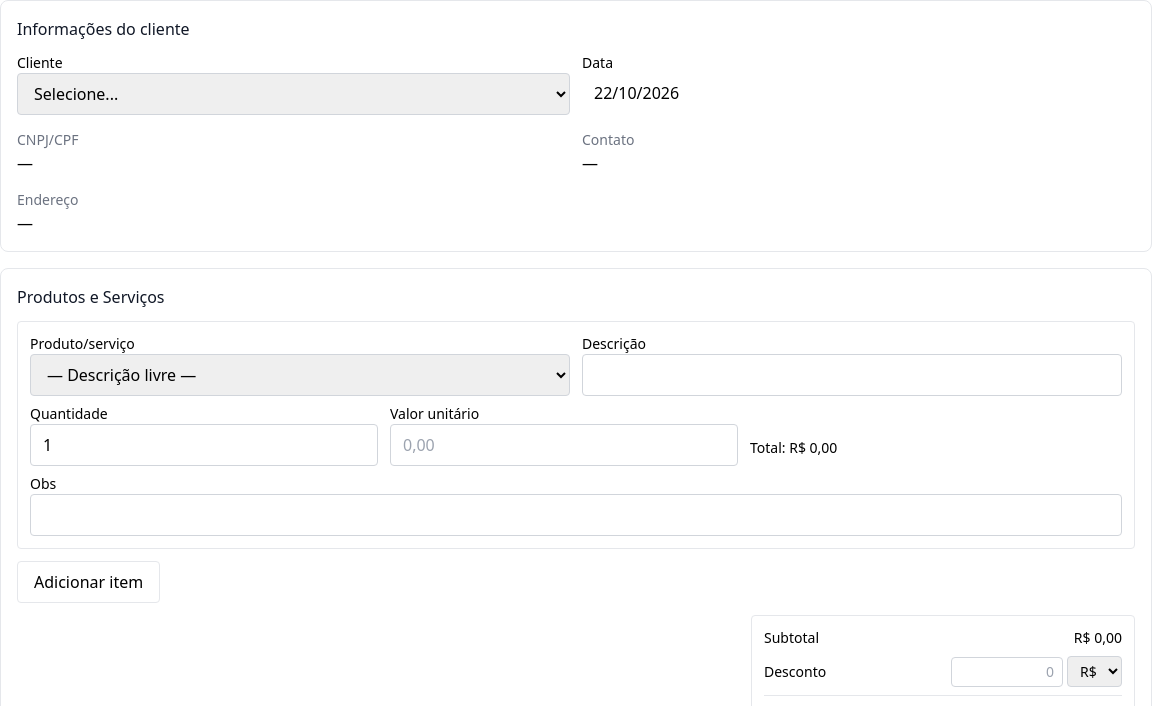
Test case: PedidoForm — item de produto › produto m² mostra a área calculada antes do valor
Select "Lona 440" in the dropdown labelled "Produto/serviço" at [300, 375], box [30,354,570,396]
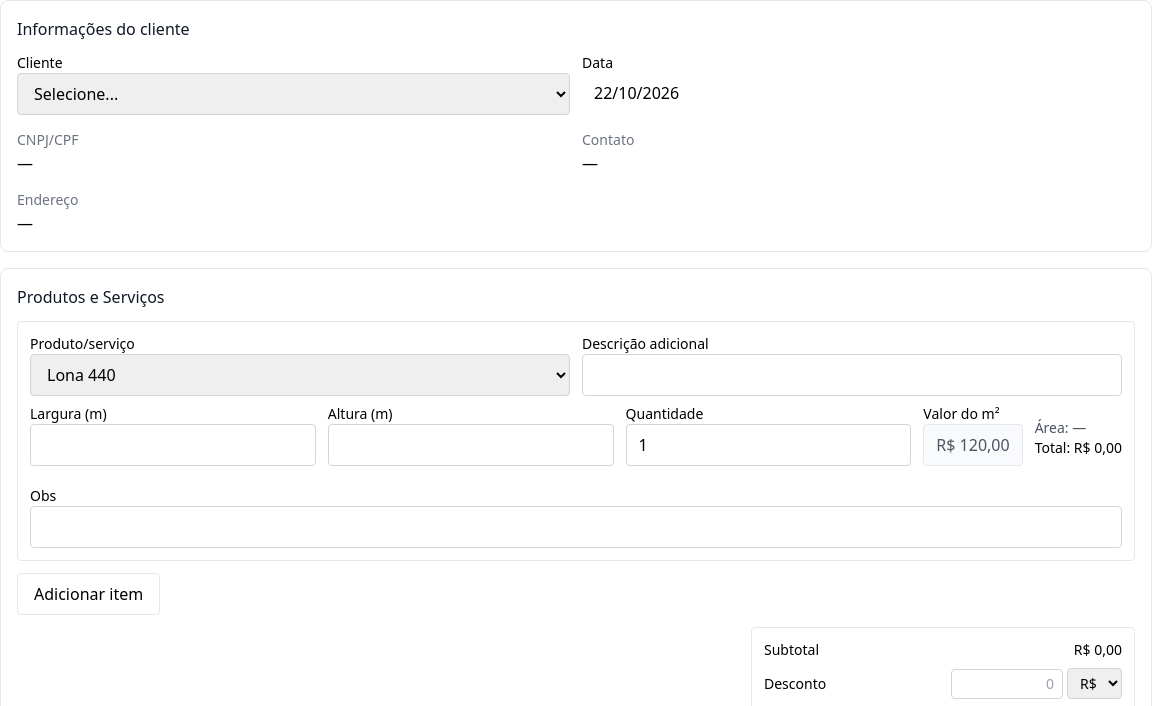
Type "1,5" into the field labelled "Largura (m)".
click(173, 445); type("1,5")  # box [30,424,316,466]
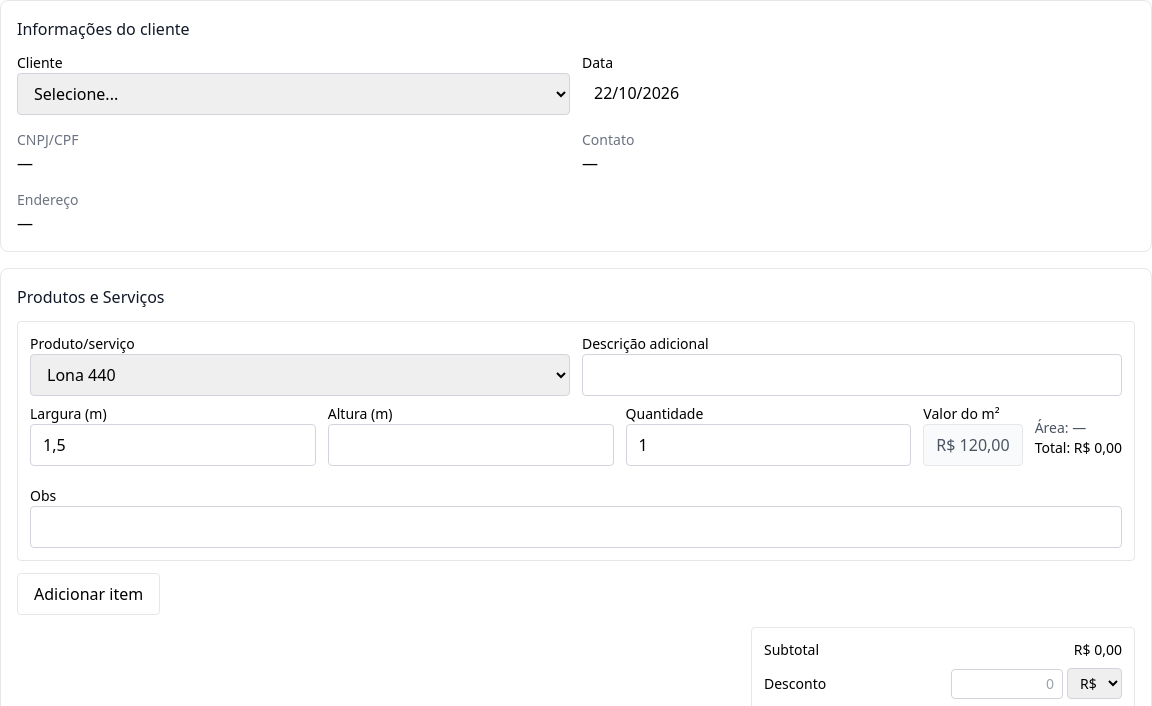
Type "2" into the field labelled "Altura (m)".
click(471, 445); type("2")  # box [328,424,614,466]
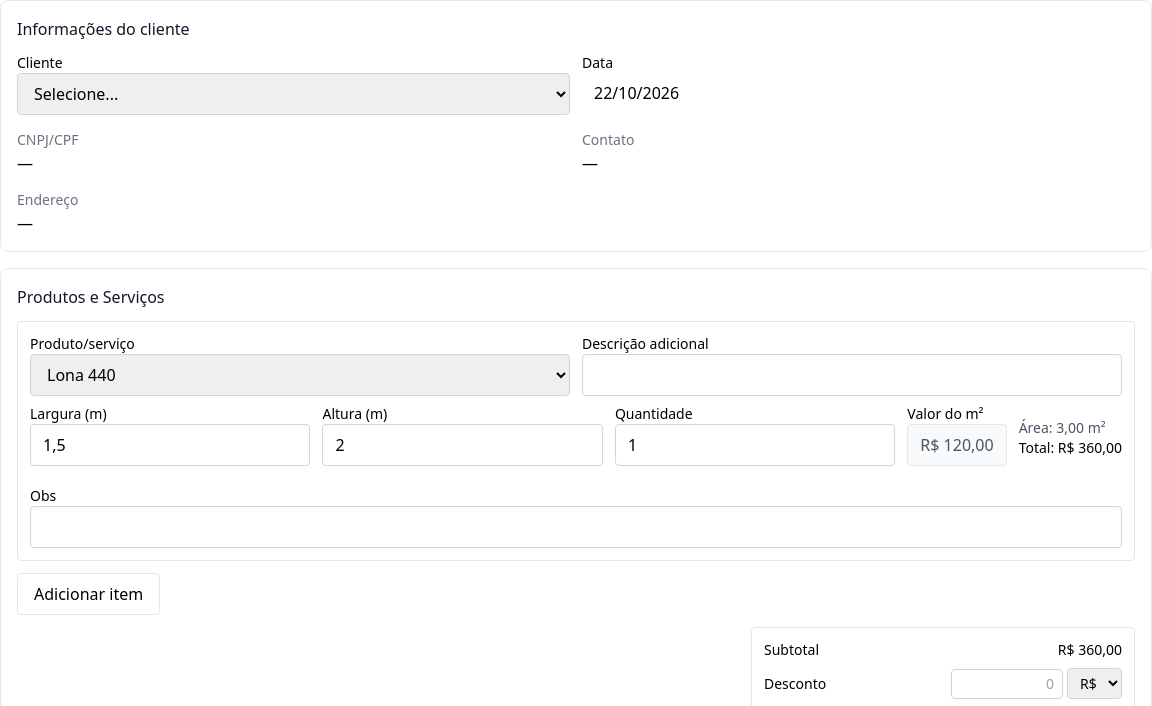
Now the text with test id "area-item-0" reads "3,00 m²", box [1056,418,1106,437]
Replace the text in the field labelled "Quantidade" with "2" at [755, 445], box [615,424,895,466]
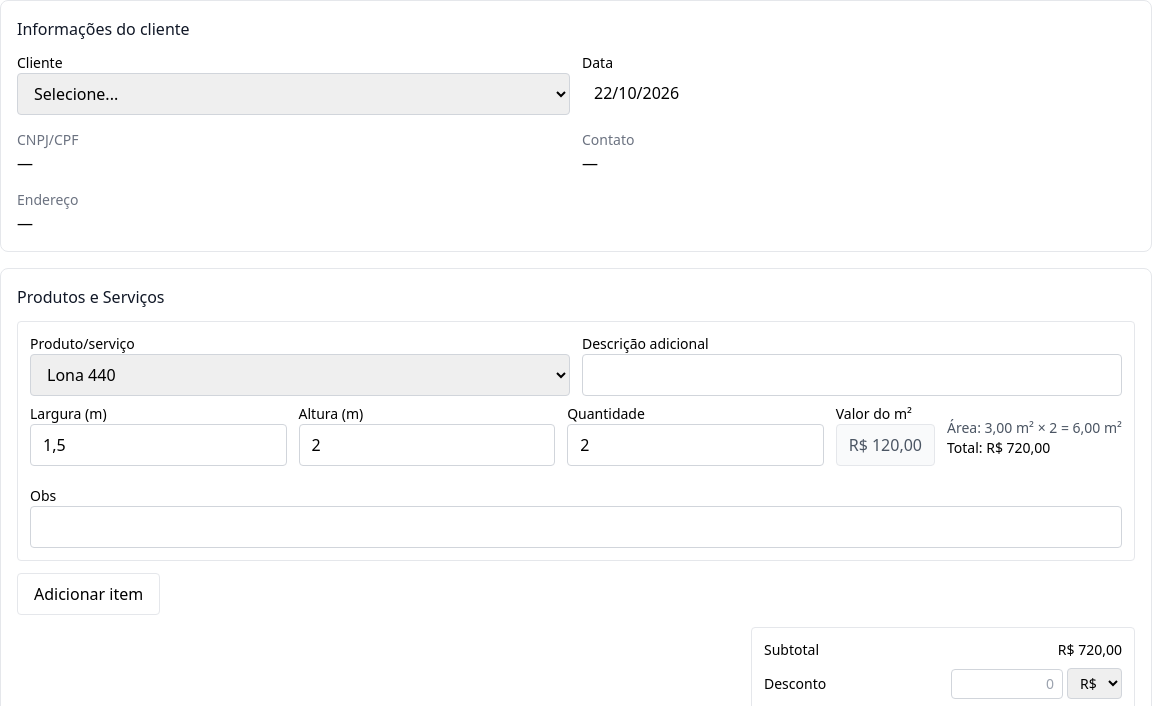
Now the text with test id "area-item-0" reads "3,00 m² × 2 = 6,00 m²", box [985,418,1122,437]
